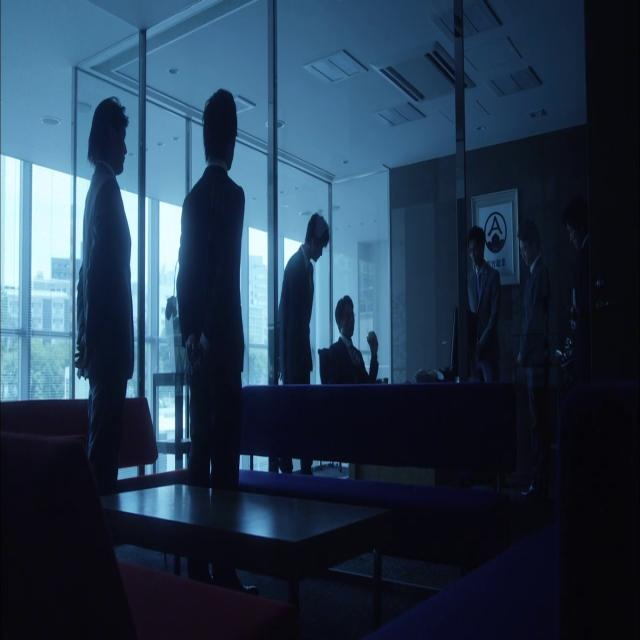People: (165, 69, 263, 527), (75, 72, 151, 511), (557, 196, 630, 423), (270, 210, 339, 418), (464, 196, 521, 440), (501, 199, 553, 401), (318, 288, 389, 426)
Table: (95, 442, 397, 640)
